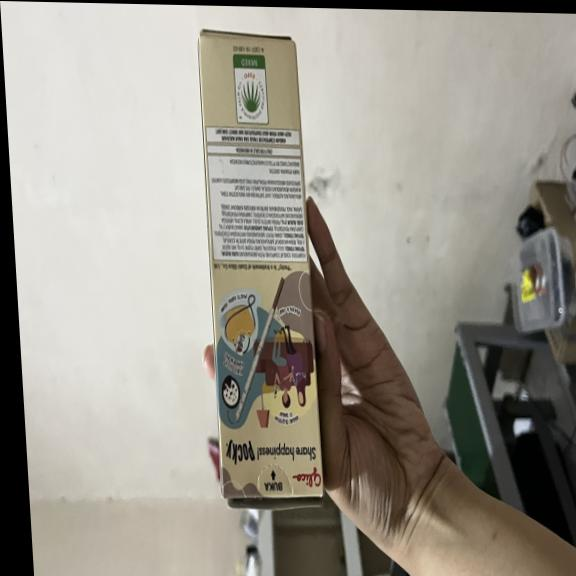Kertas: (197, 27, 324, 509)
